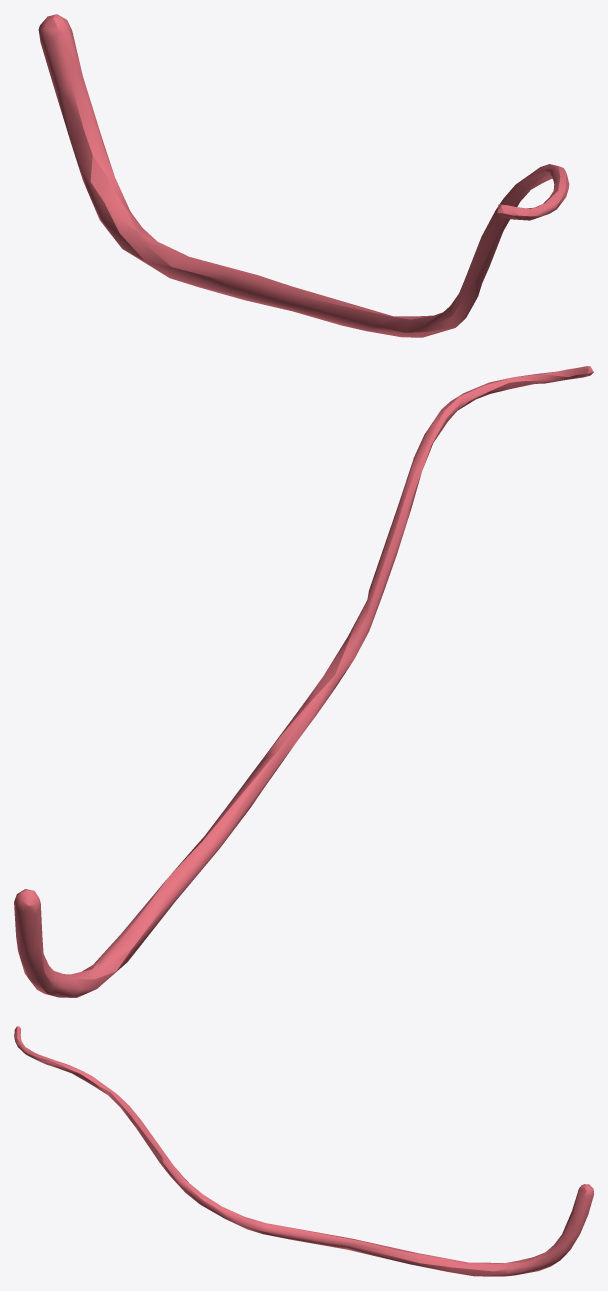
The model's file is fma50343_fj5126.glb.
The picture shows the model from 3 angles, top to bottom: view 1: azimuth 30°, elevation 25°; view 2: azimuth 150°, elevation 25°; view 3: azimuth 270°, elevation 25°; orthographic projection. The views are drawn at different scales.
Parts seen in each view (by area): view 1: FMA50343_FJ5126; view 2: FMA50343_FJ5126; view 3: FMA50343_FJ5126.
Part boxes in pixels (x1,y1,x2,y2): FMA50343_FJ5126: (38,14,569,337); FMA50343_FJ5126: (14,366,593,997); FMA50343_FJ5126: (14,1026,593,1276).
Size of the model in its own units: 0.00822 by 0.0221 by 0.053.
